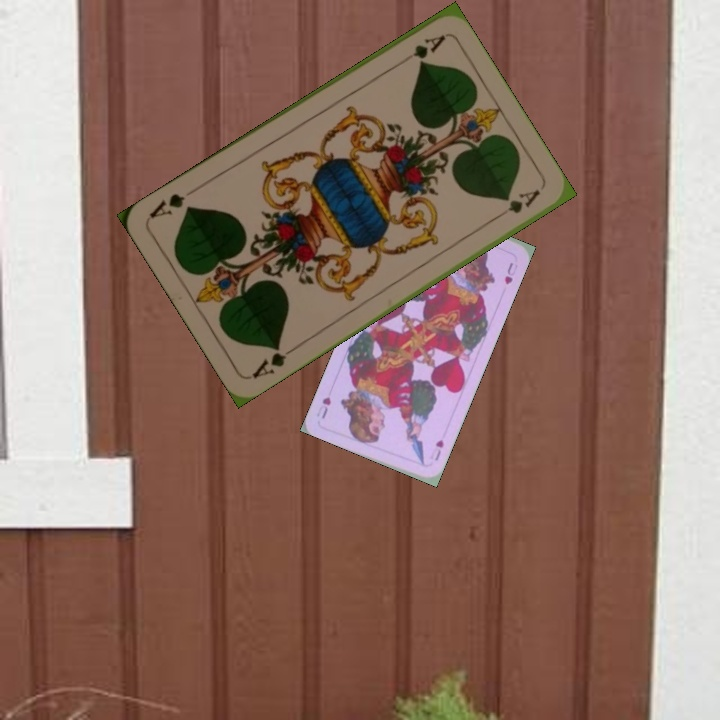GA: (248, 341, 300, 381), (393, 31, 448, 68)
HU: (430, 436, 447, 463)
